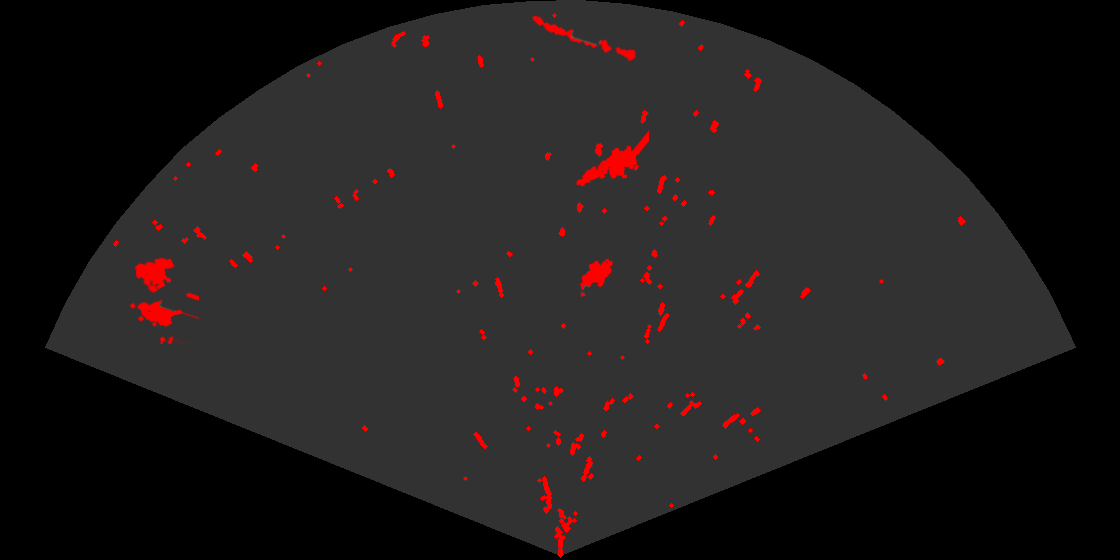AUV: (578, 257, 615, 299)
cage: (128, 256, 199, 344)
chain: (530, 14, 639, 63)
frogman: (575, 129, 649, 188)
